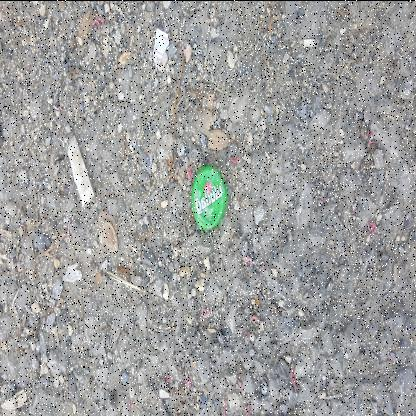metal: (186, 191, 252, 228)
